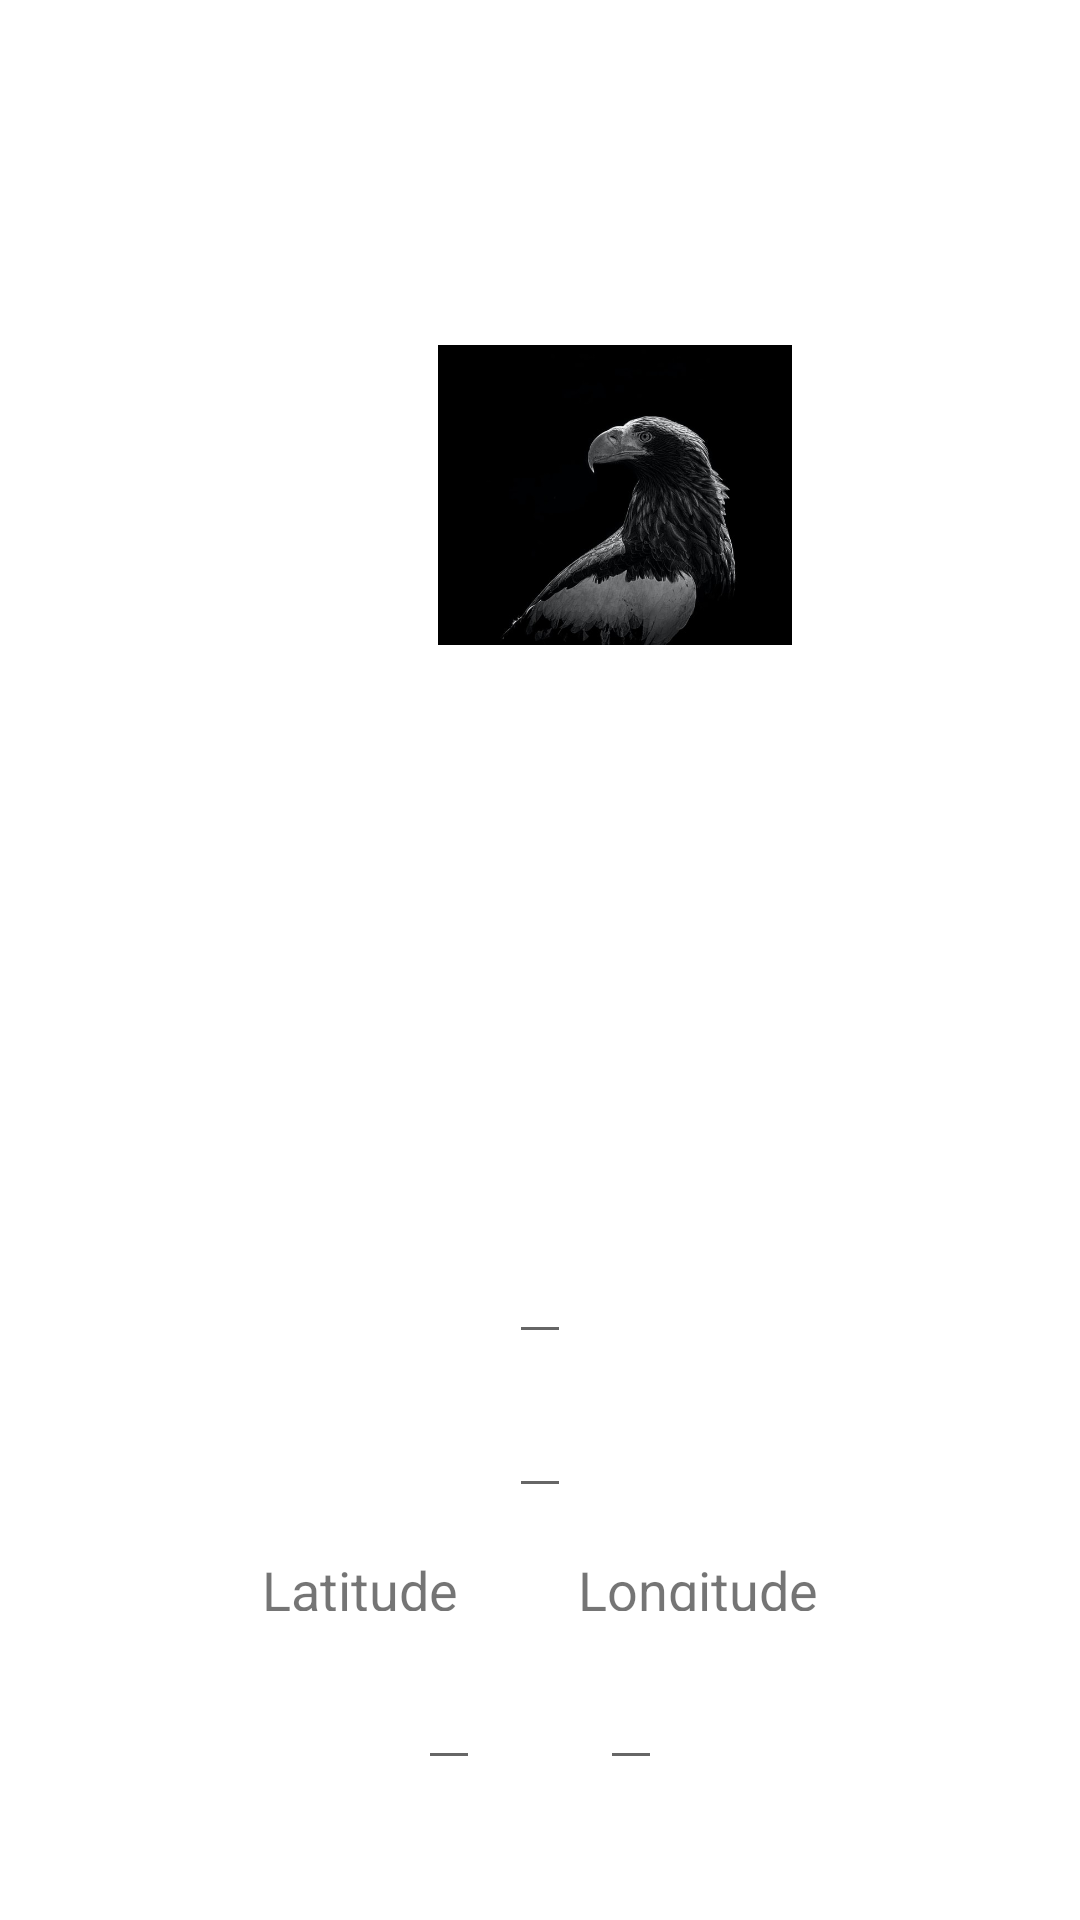

Named icons in this screenshot (1080 x 1920) and their bounding boxes, (x1, y1, x2, y2):
Profile picture: (438, 345, 792, 645)
